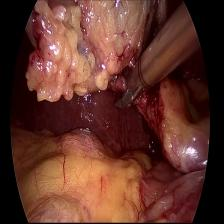Clipper: (110, 43, 151, 114)
